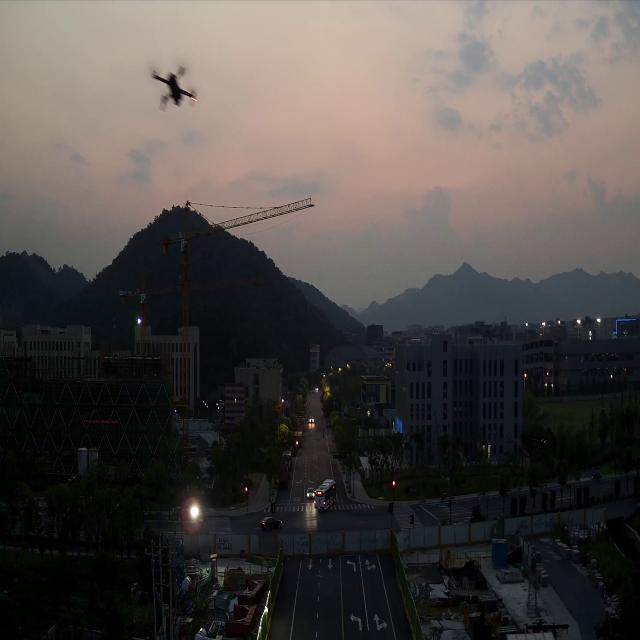UAV: (150, 65, 198, 112)
